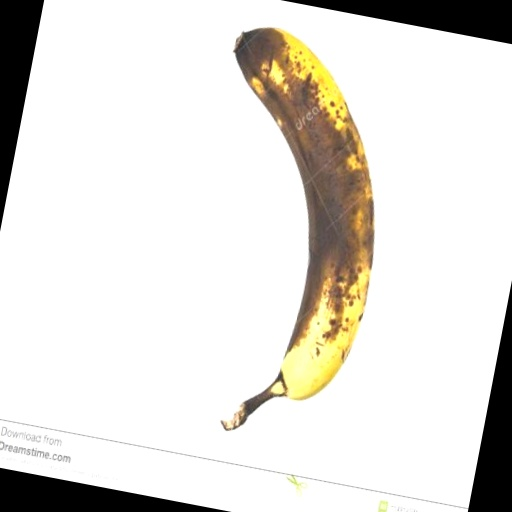fruit: (104, 0, 380, 159)
